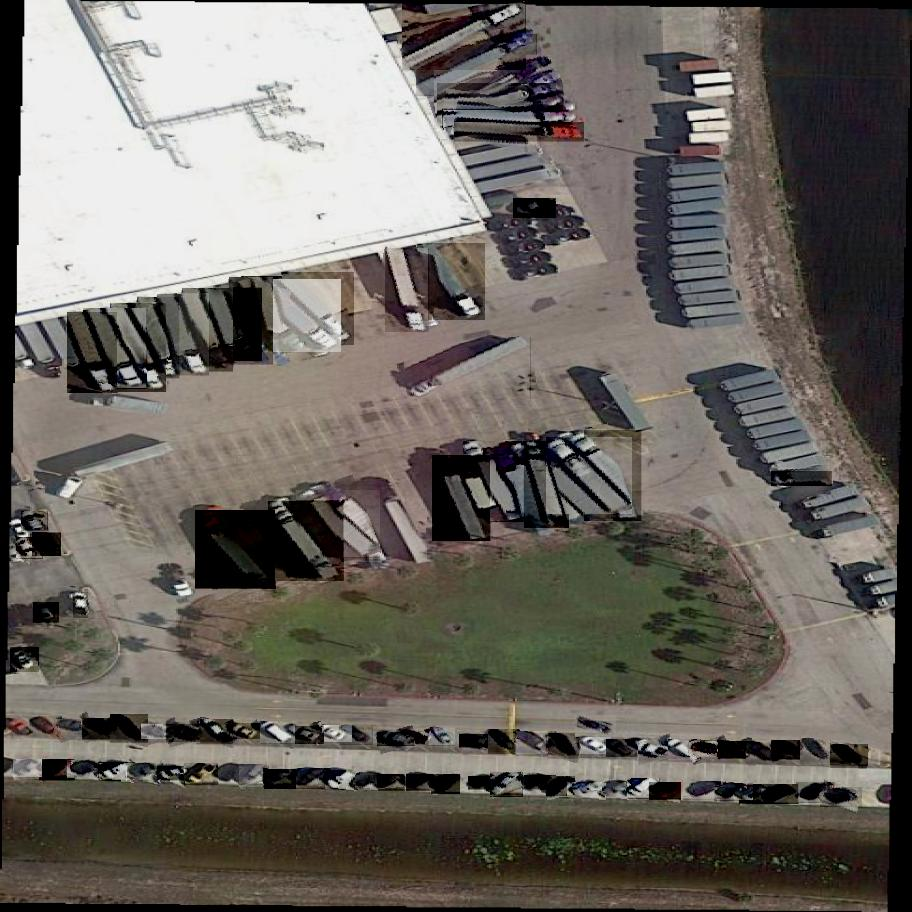large-vehicle: (435, 52, 556, 130), (402, 2, 527, 73), (407, 335, 531, 405), (417, 34, 538, 99), (546, 434, 632, 519), (194, 506, 276, 593), (255, 274, 343, 355), (266, 497, 344, 586), (296, 487, 380, 562), (582, 424, 642, 528), (417, 236, 488, 323), (437, 83, 564, 131), (282, 266, 355, 349), (110, 297, 170, 396), (83, 304, 149, 393), (431, 450, 491, 547), (463, 437, 529, 525), (193, 285, 265, 365), (182, 284, 235, 377), (242, 272, 301, 355), (520, 437, 570, 534), (157, 290, 209, 381), (68, 307, 120, 398), (386, 243, 433, 336), (229, 273, 274, 369), (138, 292, 182, 383), (453, 123, 585, 143), (444, 111, 579, 128), (772, 471, 831, 487)
small-vehicle: (110, 710, 149, 749), (796, 777, 836, 809), (200, 713, 235, 749), (830, 740, 868, 773), (746, 739, 786, 768), (516, 729, 557, 757), (800, 733, 832, 768), (548, 728, 579, 764), (184, 760, 219, 791), (739, 780, 774, 811), (82, 716, 122, 743), (491, 769, 523, 802), (820, 784, 862, 809), (260, 718, 296, 747), (683, 779, 726, 803), (513, 197, 557, 220), (40, 757, 76, 785), (488, 726, 520, 757), (772, 737, 808, 764), (575, 714, 617, 737), (67, 757, 105, 782), (325, 766, 360, 793), (762, 782, 799, 807), (29, 713, 63, 740), (127, 760, 163, 785), (297, 766, 330, 793), (99, 761, 136, 785), (166, 723, 208, 744), (634, 739, 674, 761), (716, 781, 754, 804), (32, 529, 61, 559), (10, 645, 39, 675), (240, 762, 269, 792), (628, 776, 660, 803), (264, 767, 297, 793), (669, 737, 702, 763), (547, 772, 576, 801), (340, 722, 373, 747), (316, 723, 352, 745), (432, 771, 461, 798), (22, 507, 49, 536), (567, 780, 606, 800), (287, 725, 324, 746), (719, 739, 754, 761), (580, 734, 612, 758), (34, 599, 60, 628), (14, 757, 43, 783), (606, 737, 638, 760), (17, 534, 44, 561), (650, 780, 682, 802), (398, 728, 435, 747), (689, 741, 728, 759), (430, 724, 455, 751), (406, 773, 436, 795), (141, 723, 177, 741), (601, 781, 636, 799), (230, 721, 261, 741), (157, 765, 191, 783), (378, 772, 405, 794), (55, 719, 92, 735), (355, 773, 386, 791), (377, 732, 414, 747), (525, 775, 556, 792), (469, 774, 496, 793), (460, 734, 492, 749), (73, 591, 88, 619)
